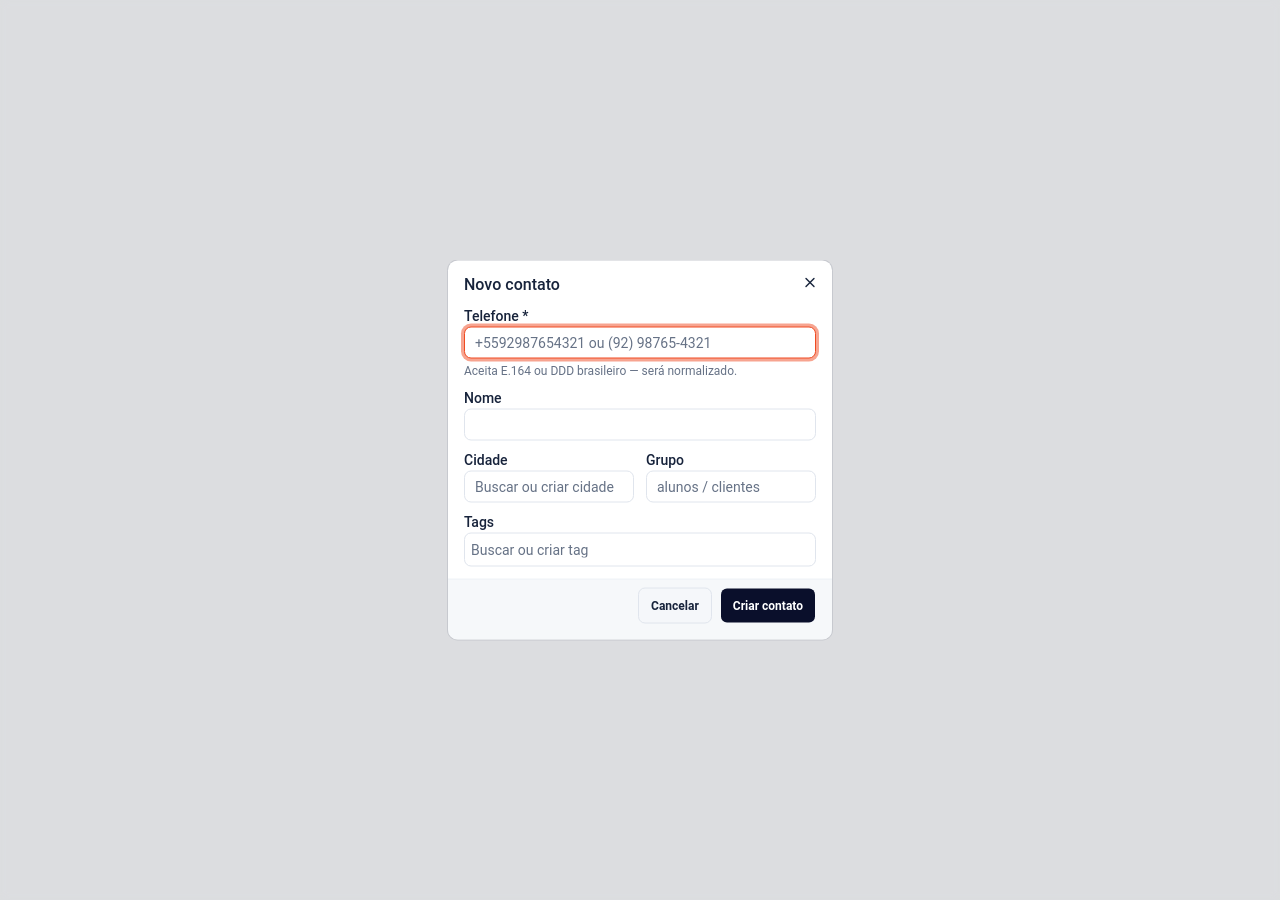
Test: ContactFormDialog — error ladder › maps contact.invalid_phone using the server detail (no toast)
The image size is (1280, 900).
Type "+5592987654321" into the field labelled "Telefone *" at (640, 342), box [464,326,816,358]
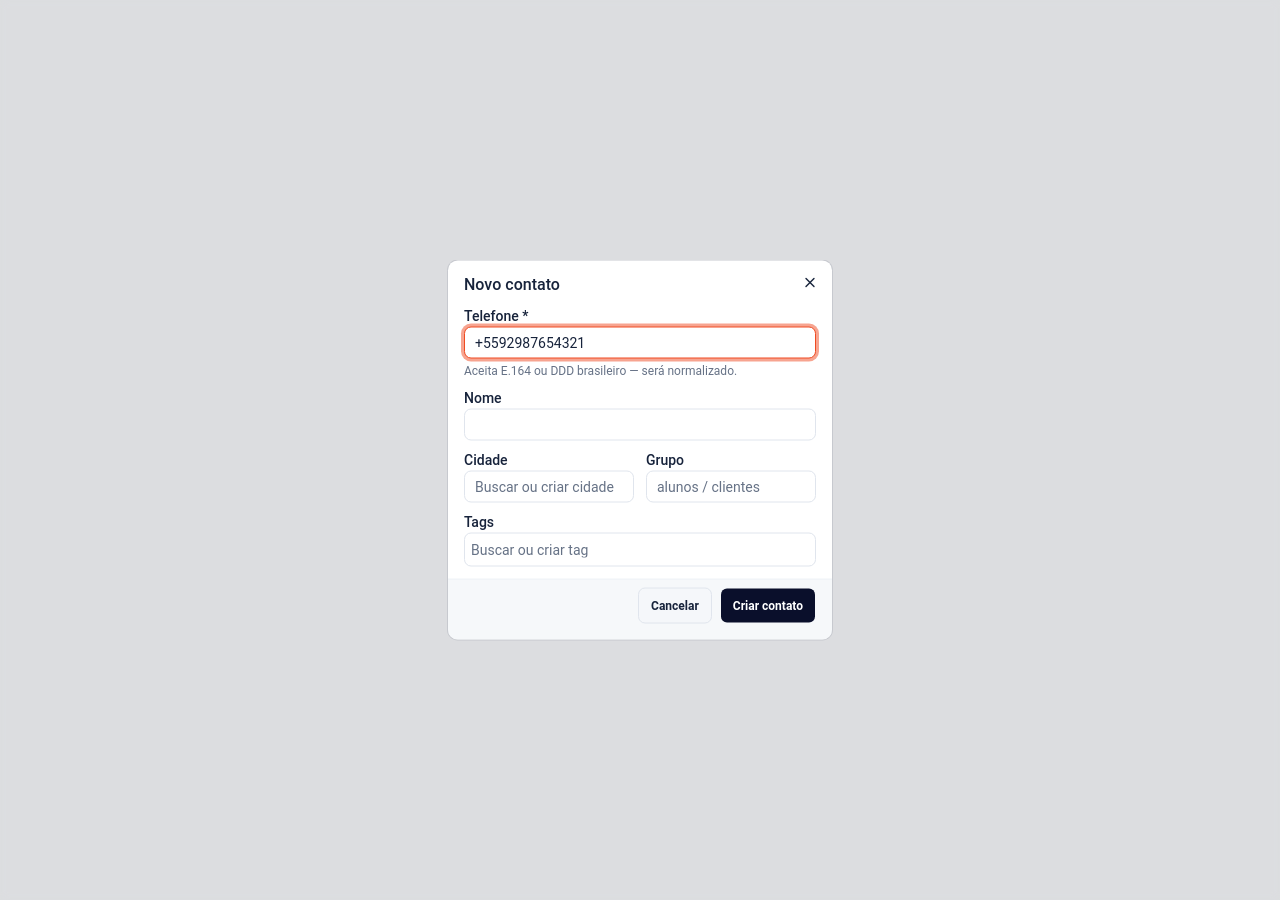
Click the button "Criar contato" at (768, 606), box [720,588,816,624]
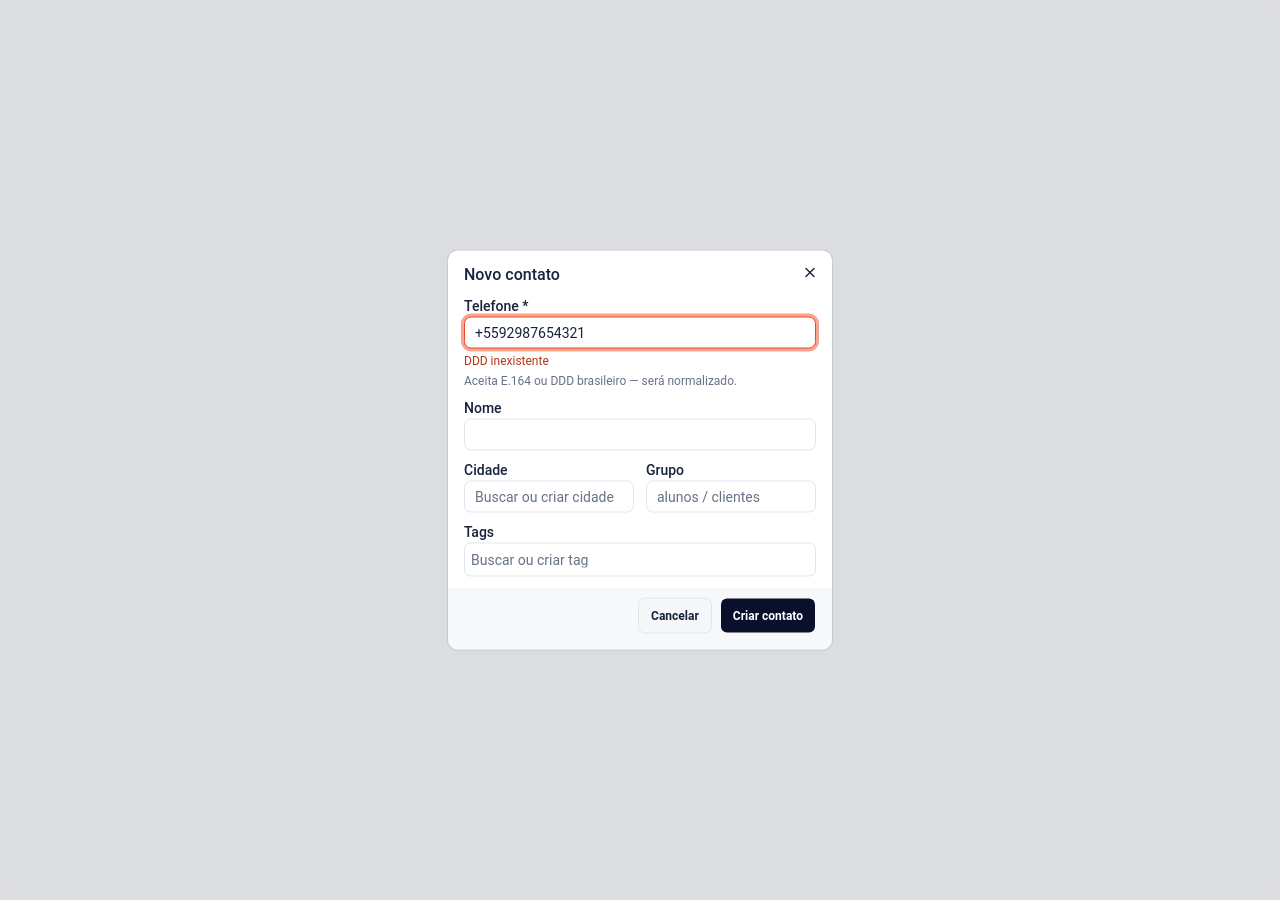
Check: the text "DDD inexistente" is shown, box [464,354,549,368]
